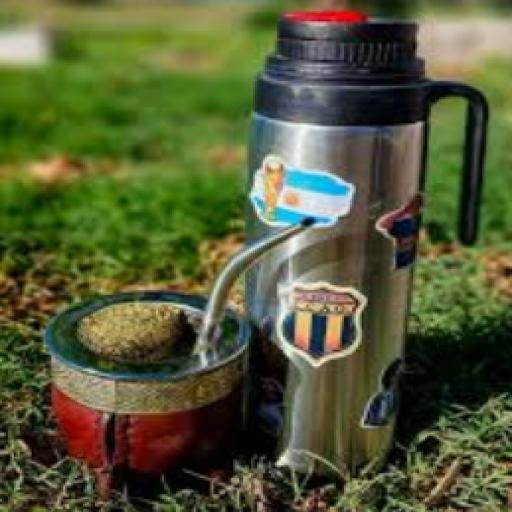mate: (47, 215, 310, 489)
termo: (245, 11, 486, 468)
